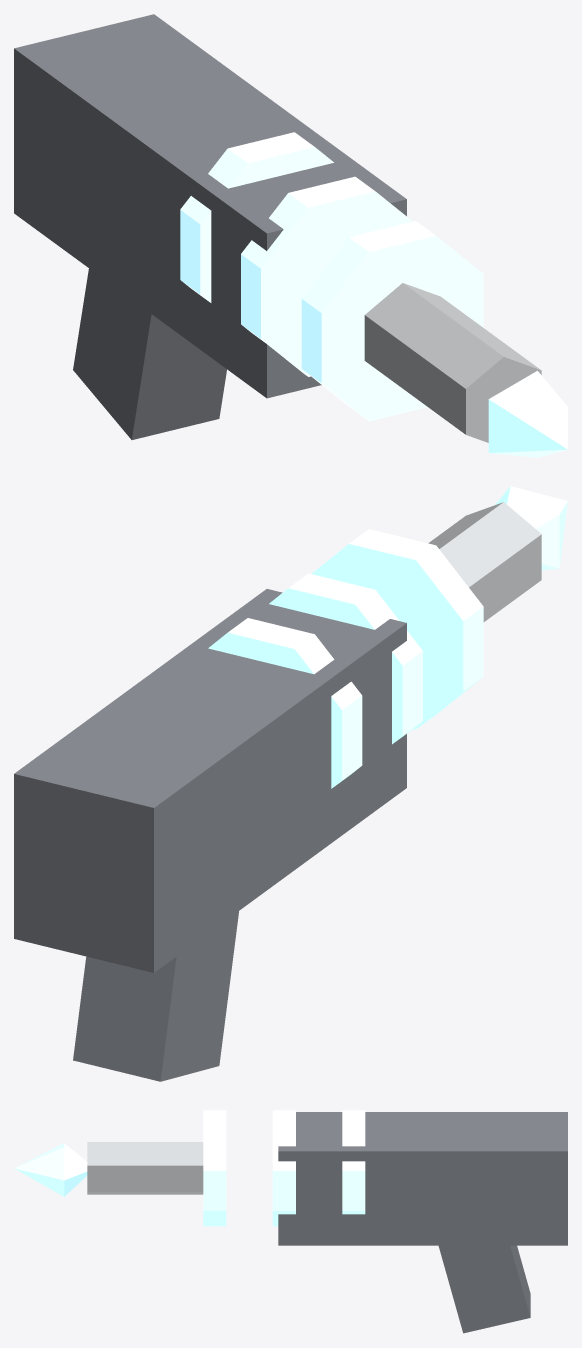
The model's file is arc-caster.glb.
3 views of the same model, one above another, from view 1: azimuth 30°, elevation 25°; view 2: azimuth 150°, elevation 25°; view 3: azimuth 270°, elevation 25° (orthographic). The views are drawn at different scales.
Parts seen in each view (by area): view 1: gun; view 2: gun; view 3: gun.
Boxes of the visible parts, x1,y1,x2,y2 form: gun: (14, 14, 567, 457); gun: (14, 486, 567, 1081); gun: (14, 1110, 567, 1333).
Size of the model in its own units: 0.1848 by 0.3838 by 0.9568.
